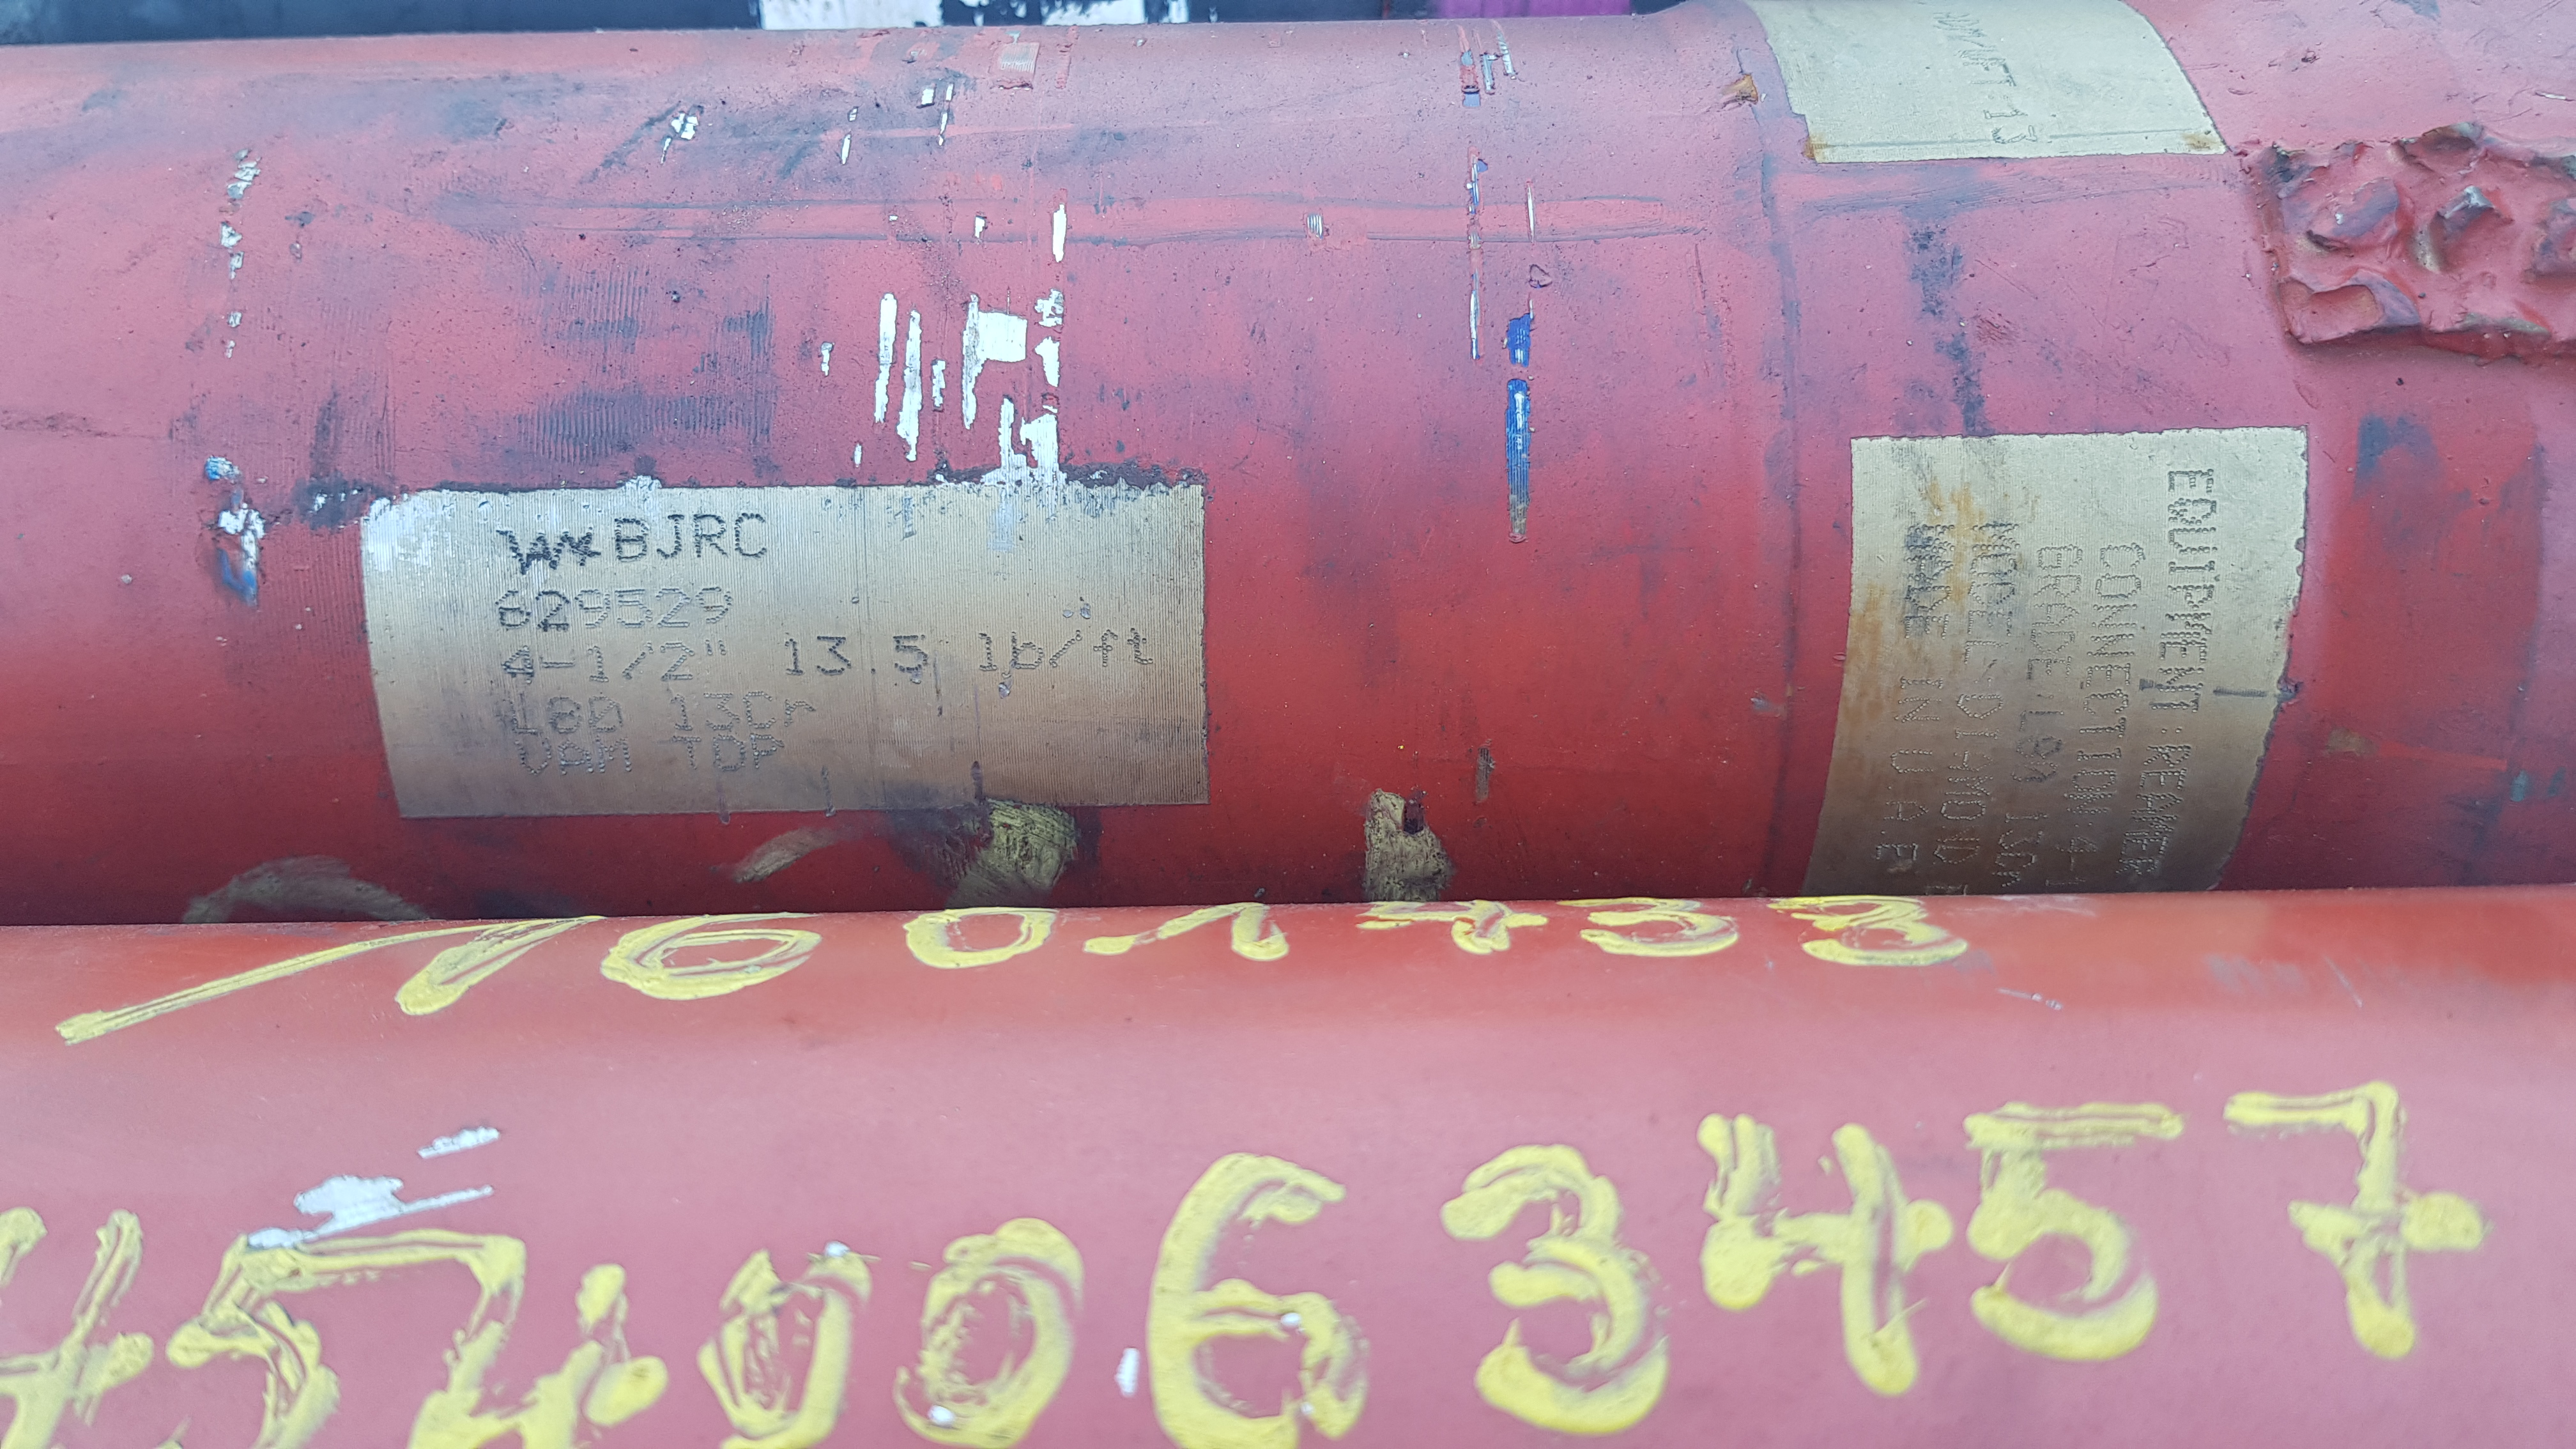character: (729, 510, 773, 561), (690, 508, 731, 563), (490, 584, 534, 632), (612, 511, 651, 564), (656, 639, 701, 685), (612, 586, 653, 635), (890, 632, 931, 681), (694, 584, 736, 630), (1007, 628, 1047, 676), (812, 630, 851, 679), (586, 692, 628, 736), (747, 734, 789, 778), (497, 642, 538, 688), (534, 586, 573, 633), (653, 584, 692, 632), (655, 511, 690, 563), (573, 587, 614, 632), (543, 695, 587, 736), (701, 690, 741, 734), (504, 690, 543, 736), (513, 738, 557, 777), (740, 690, 780, 731), (591, 740, 633, 778), (708, 734, 750, 773), (619, 640, 656, 685), (1049, 628, 1086, 671), (556, 740, 593, 778), (671, 734, 708, 773), (582, 640, 612, 688), (1125, 626, 1157, 671), (669, 692, 699, 738), (975, 630, 1003, 672), (780, 697, 817, 729), (782, 635, 809, 679), (1093, 626, 1118, 671), (541, 656, 577, 676)
